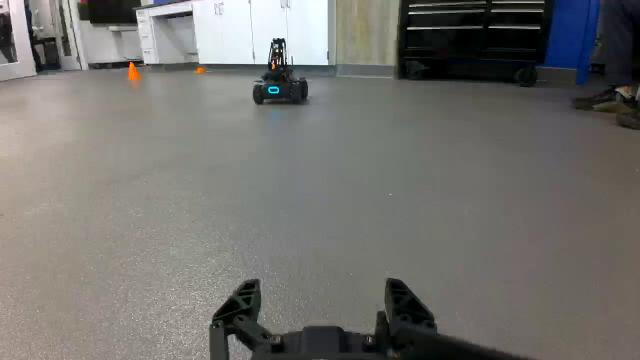robot: (252, 37, 304, 104)
